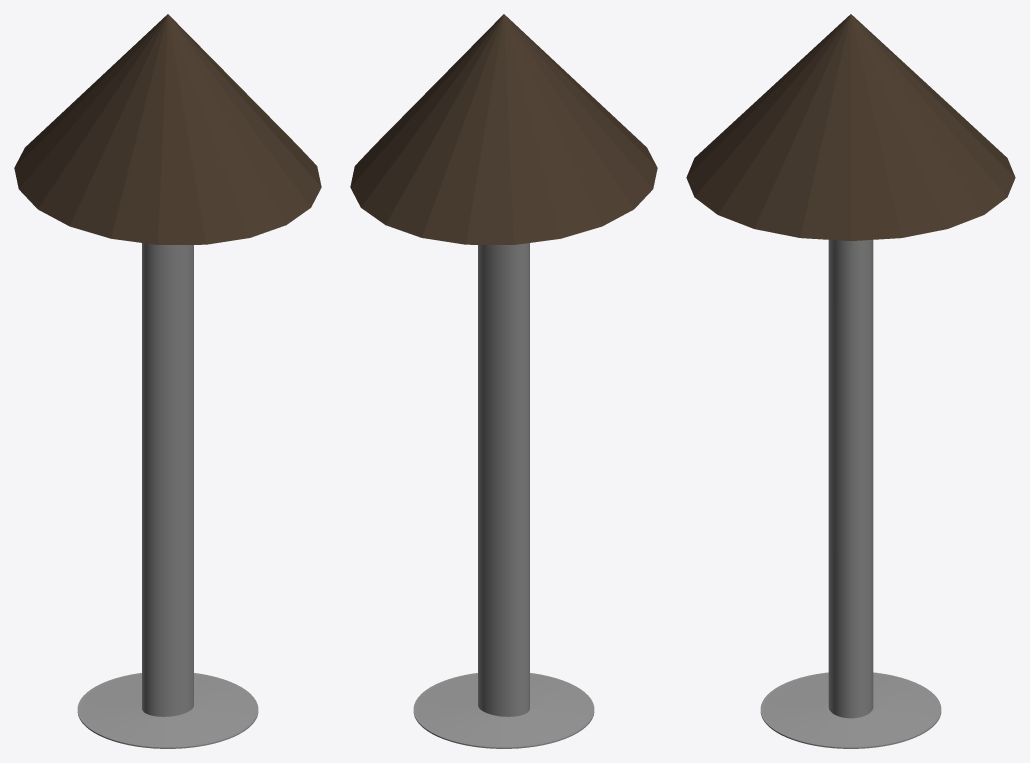
3 views of the same model, side by side, from view 1: azimuth 30°, elevation 25°; view 2: azimuth 150°, elevation 25°; view 3: azimuth 270°, elevation 25° (orthographic).
Parts seen in each view (by area): view 1: canopy_stand; view 2: canopy_stand; view 3: canopy_stand.
Boxes of the visible parts, x1=… form: canopy_stand: x1=14, y1=14, x2=321, y2=748; canopy_stand: x1=350, y1=14, x2=657, y2=748; canopy_stand: x1=686, y1=14, x2=1015, y2=748.
Bounding box in the file's own units: 0.6246 × 1.6 × 0.684.
